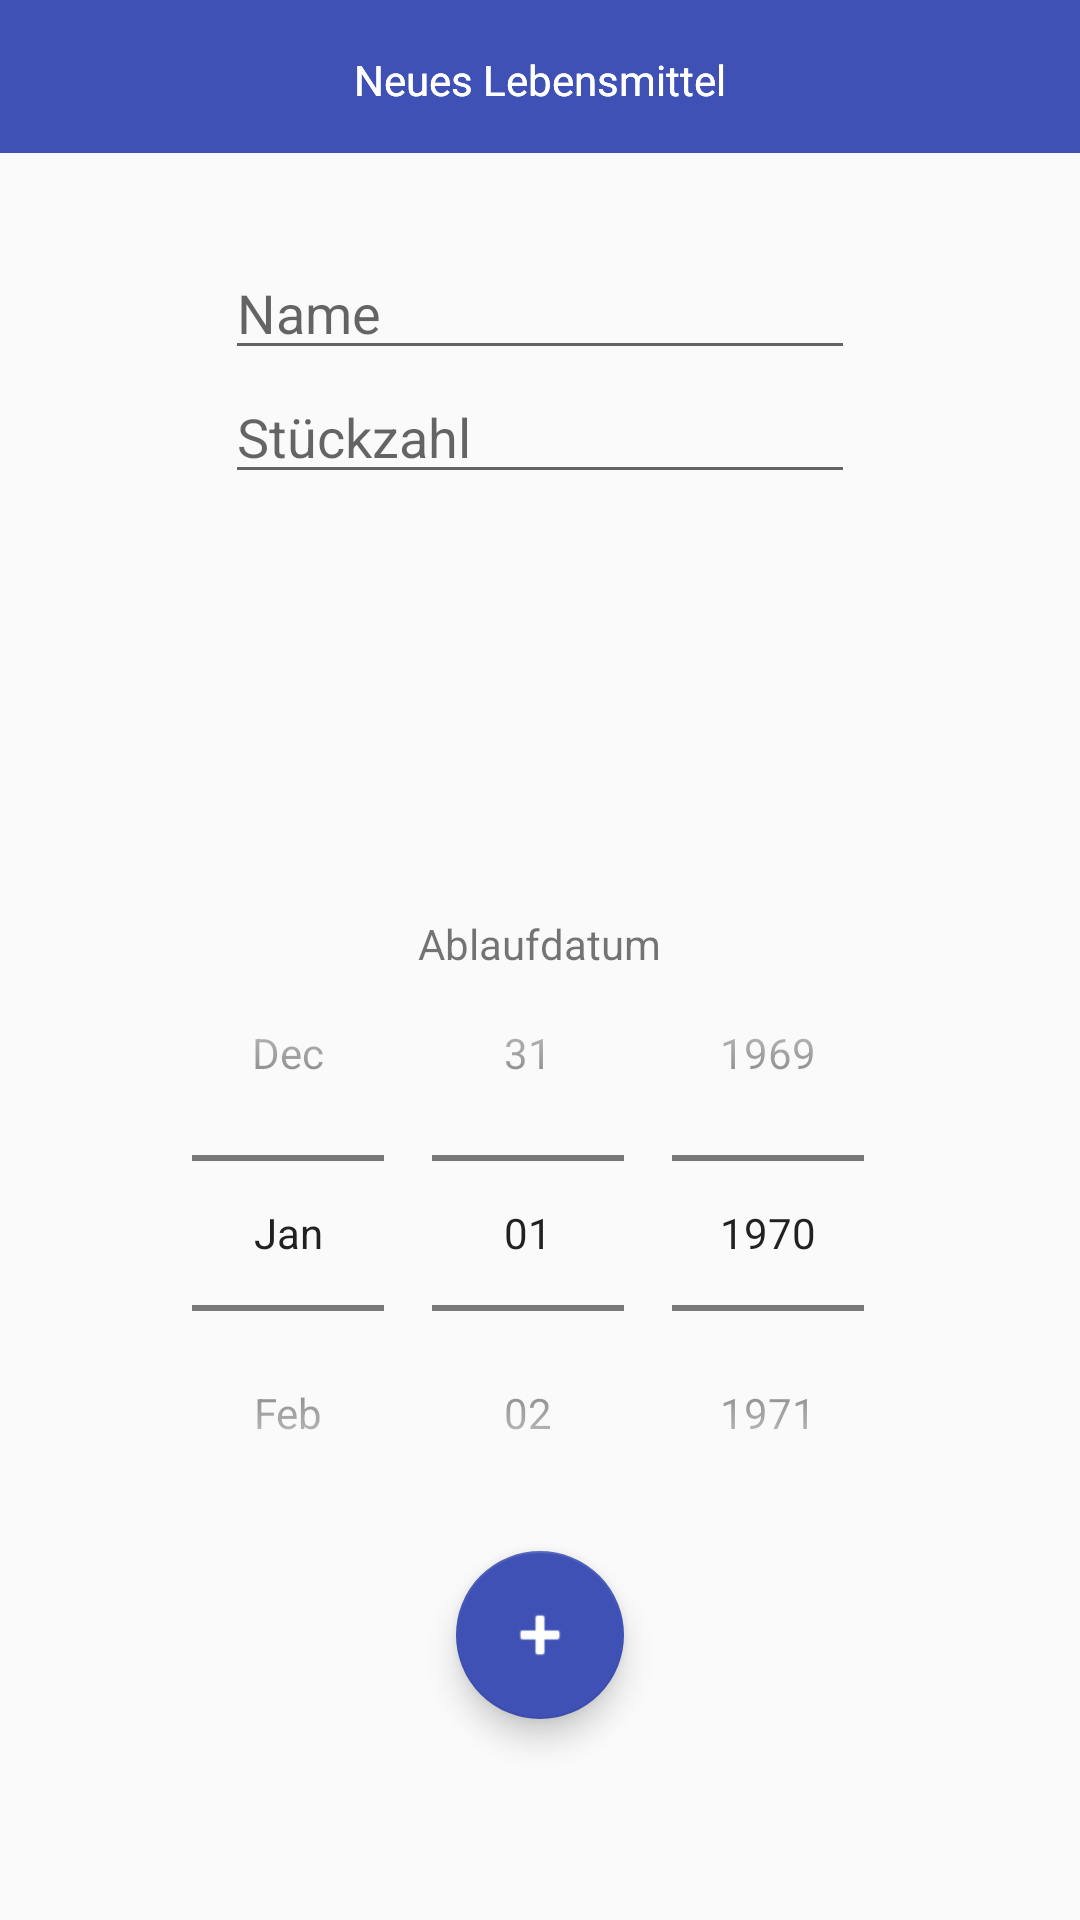

Named icons in this screenshot (1080px x 1920px) and their bounding boxes, [x1, y1, x2, y2]:
add: [456, 1551, 624, 1719]
